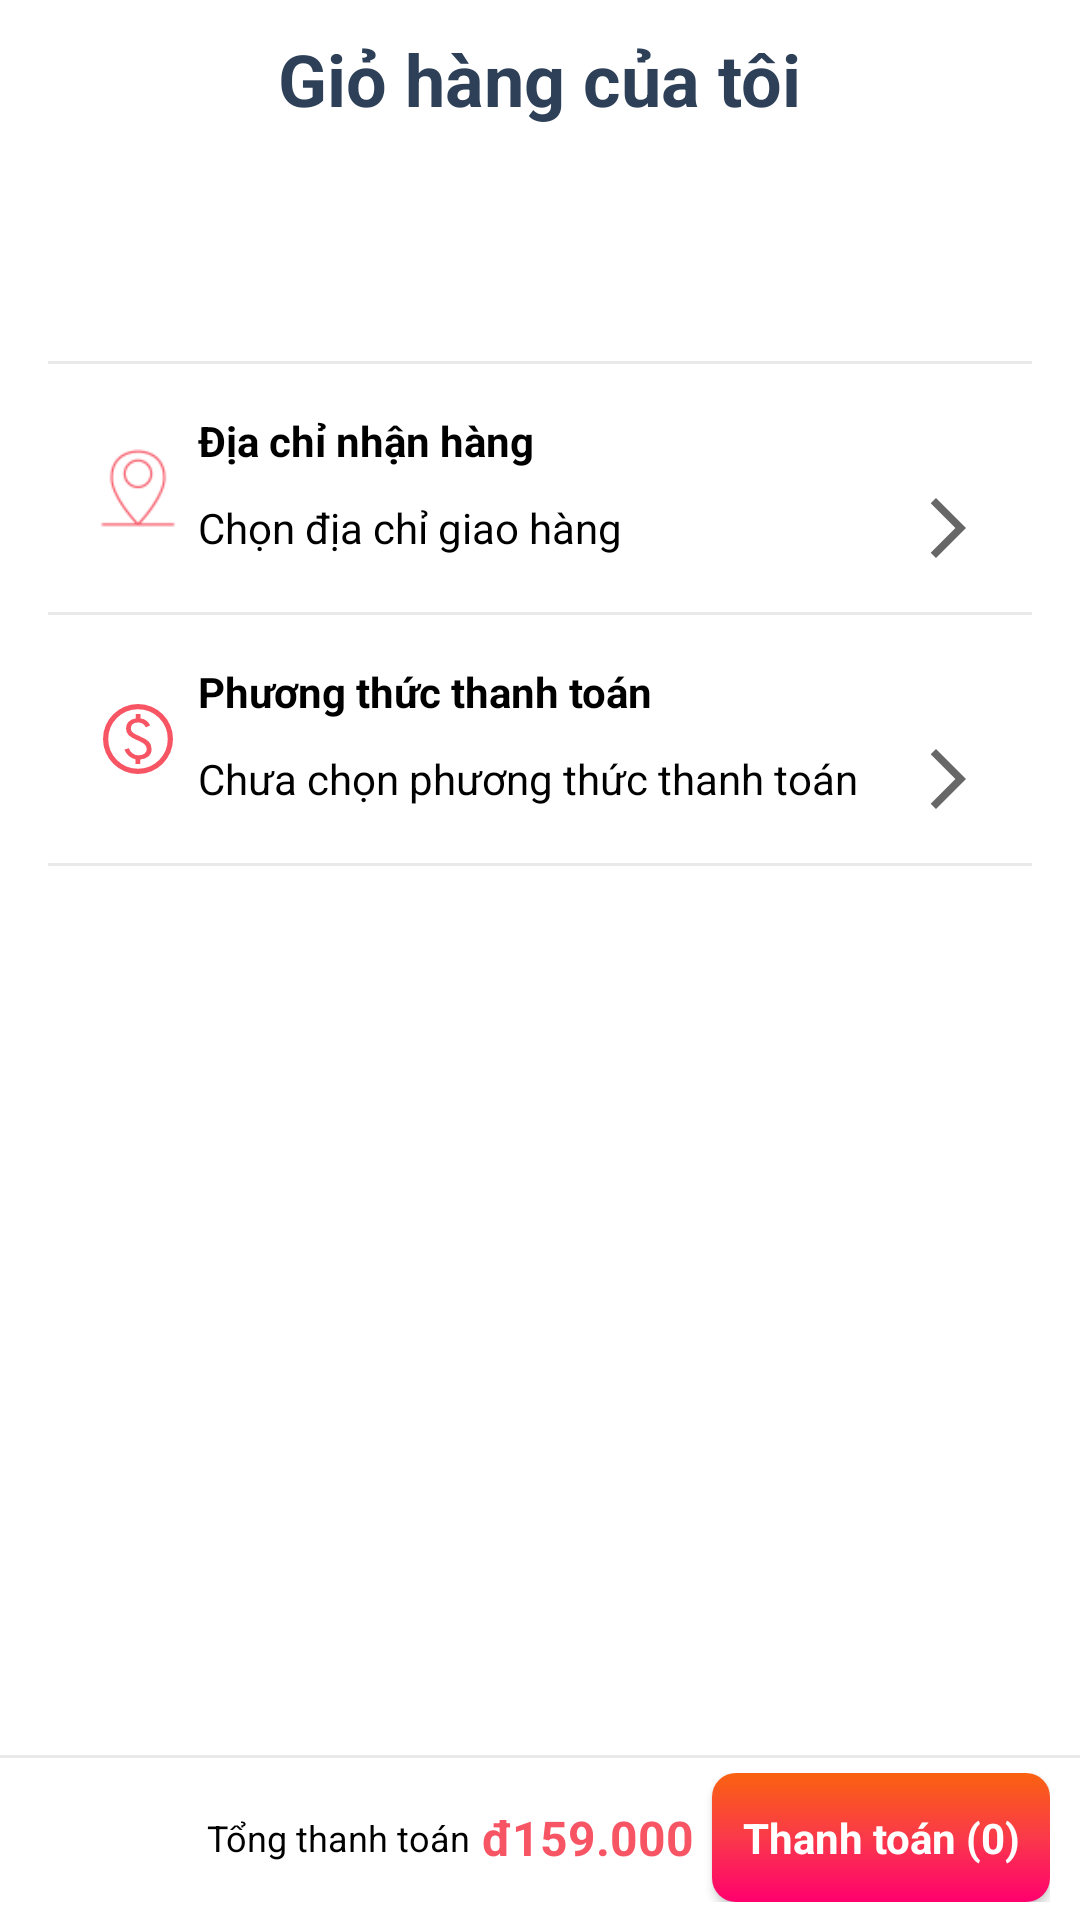

Named icons in this screenshot (1080px×1920px) and their centers, (x=x, y=y):
address: (x=138, y=488)
arrow forward: (x=948, y=528), (x=948, y=779)
paid: (x=138, y=739)
